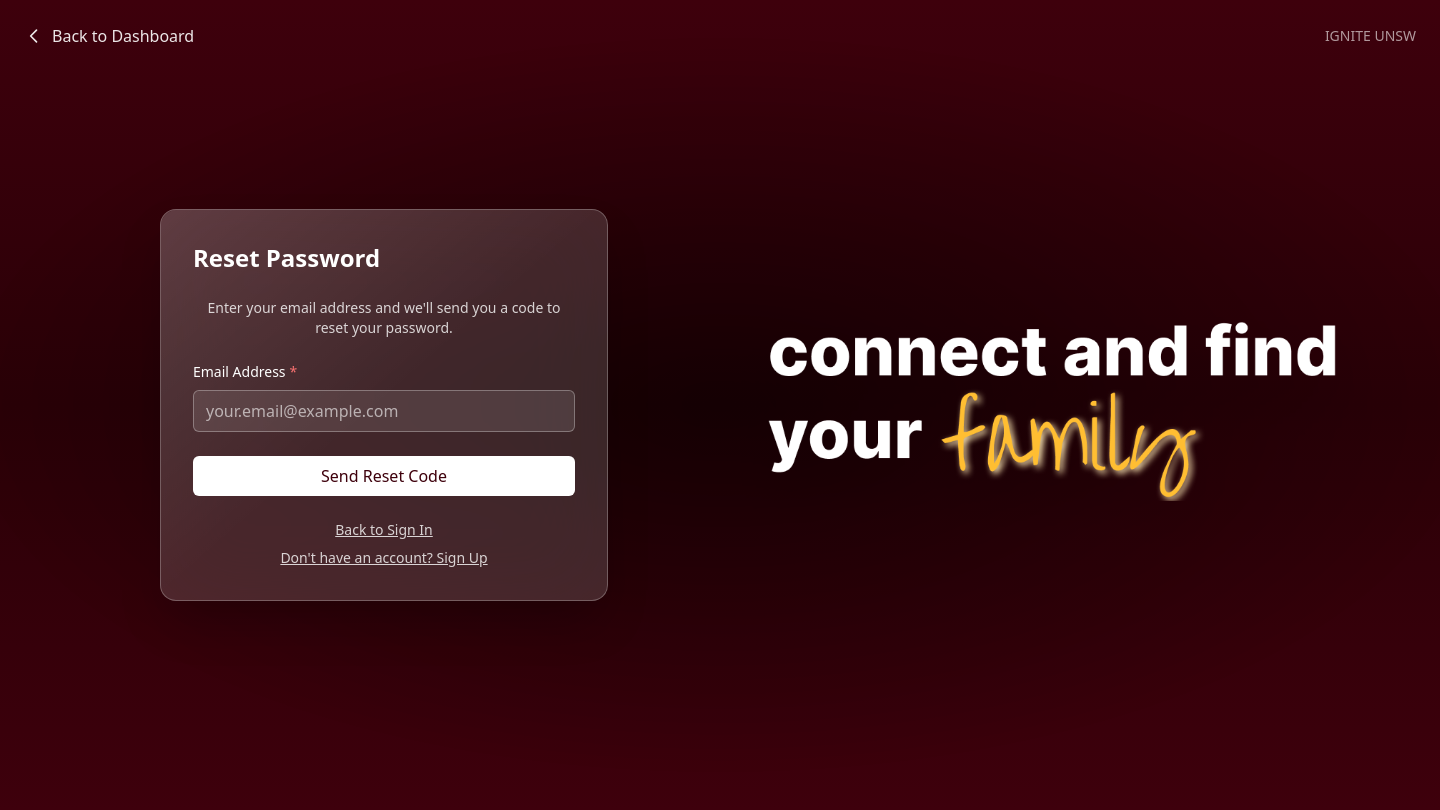
Test: RequestReset › successfully sends reset request and shows success state
In the field labelled "Email Address*": (384, 411) [193, 390, 575, 432], type "test@example.com"
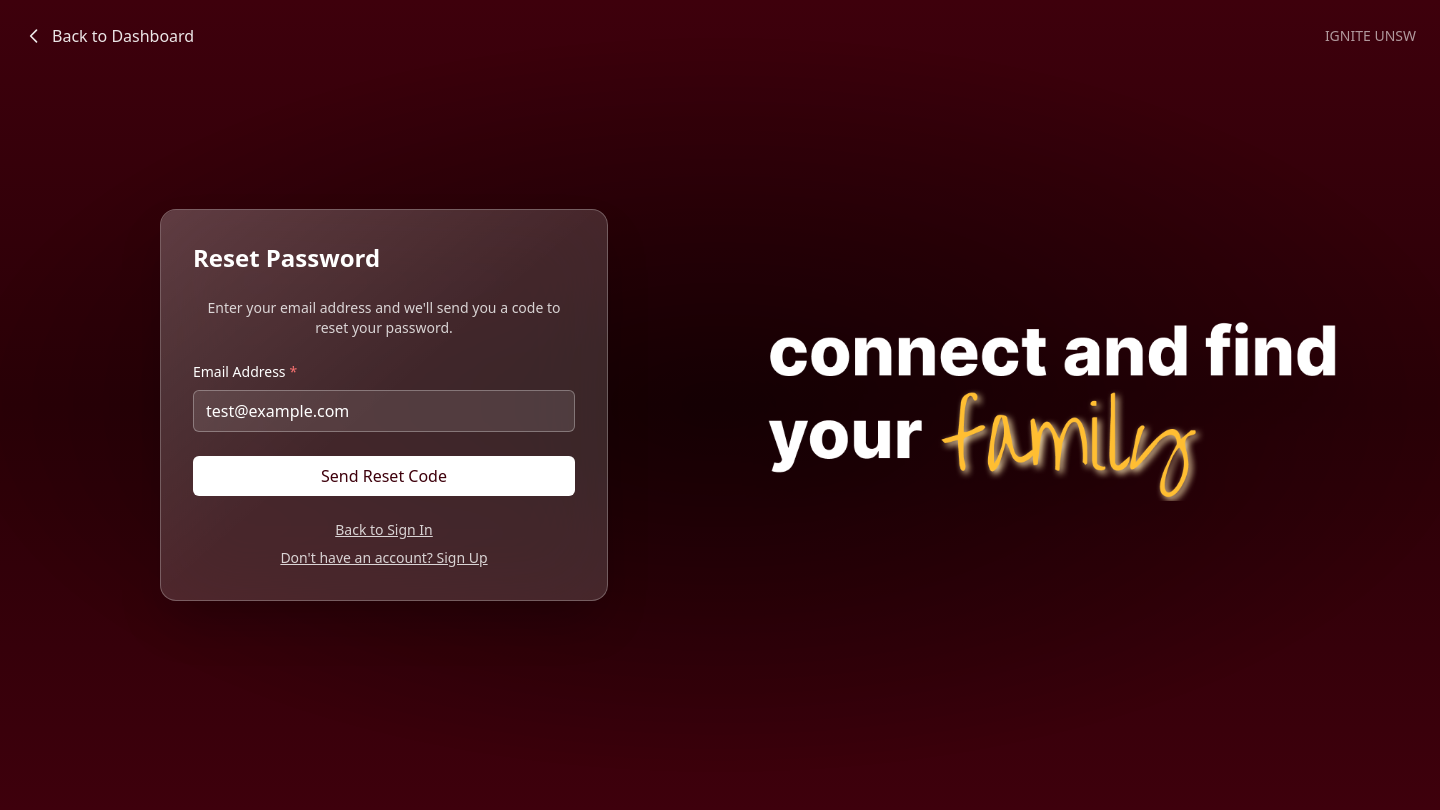
Click the button "Send Reset Code": (384, 476) [193, 456, 575, 496]
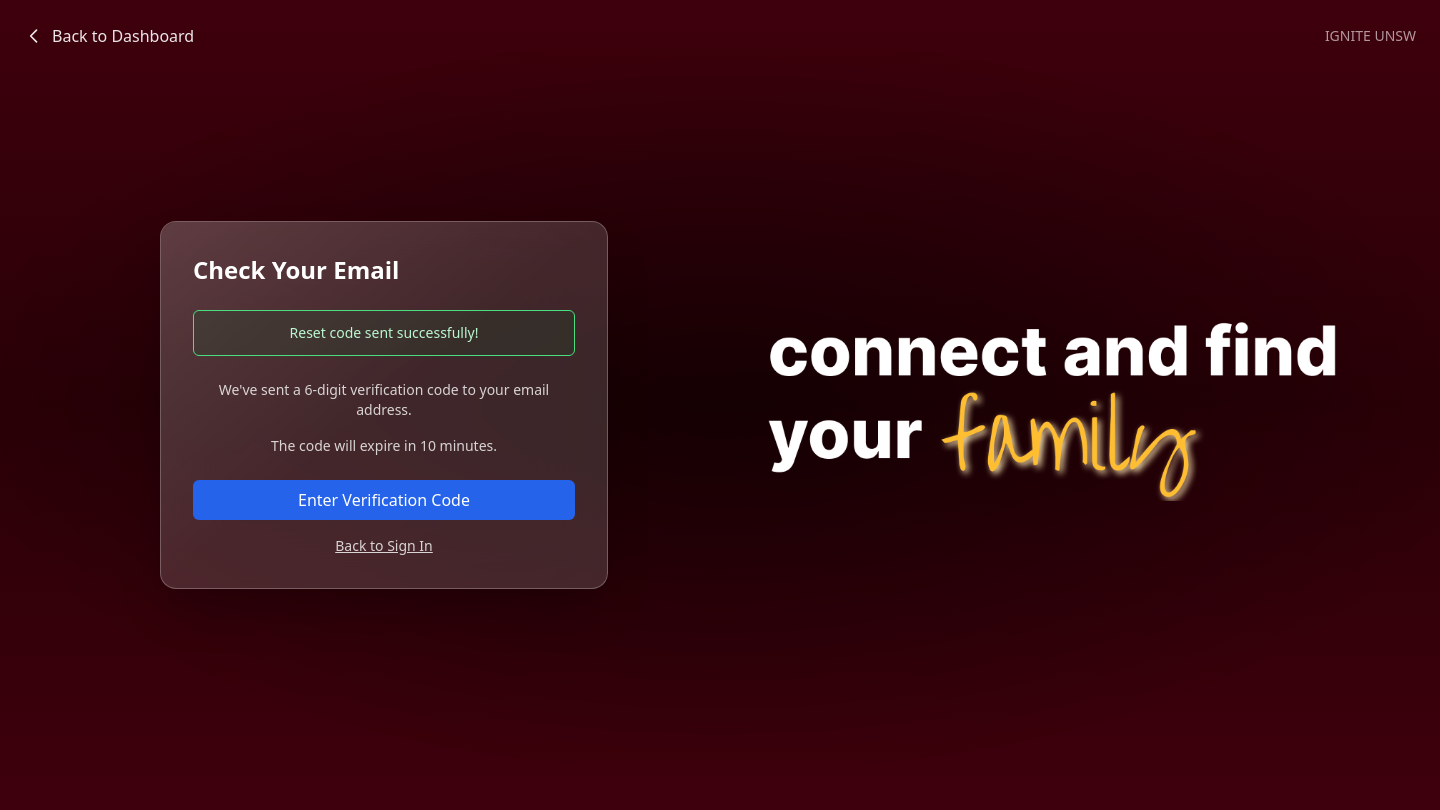
Now the heading "Check Your Email" is shown, box [193, 253, 399, 286]
Now the text "Reset code sent successfully!" is shown, box [193, 310, 575, 356]
Now the link "Enter Verification Code" is shown, box [193, 480, 575, 520]
